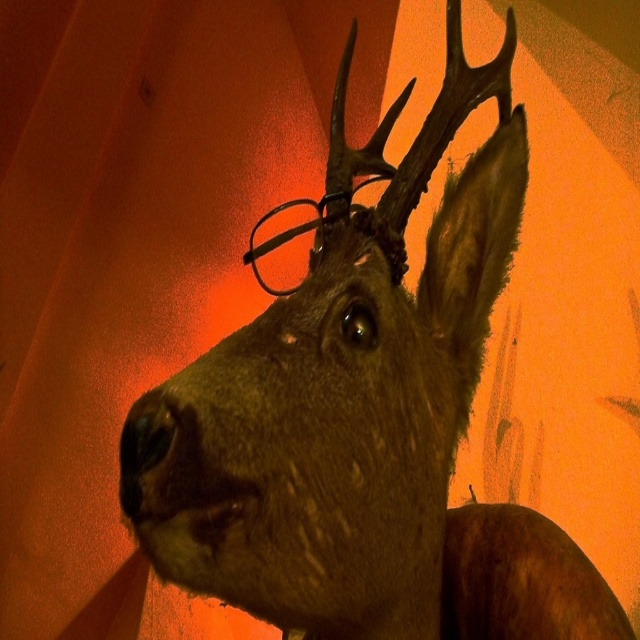Deer: (119, 0, 636, 639)
